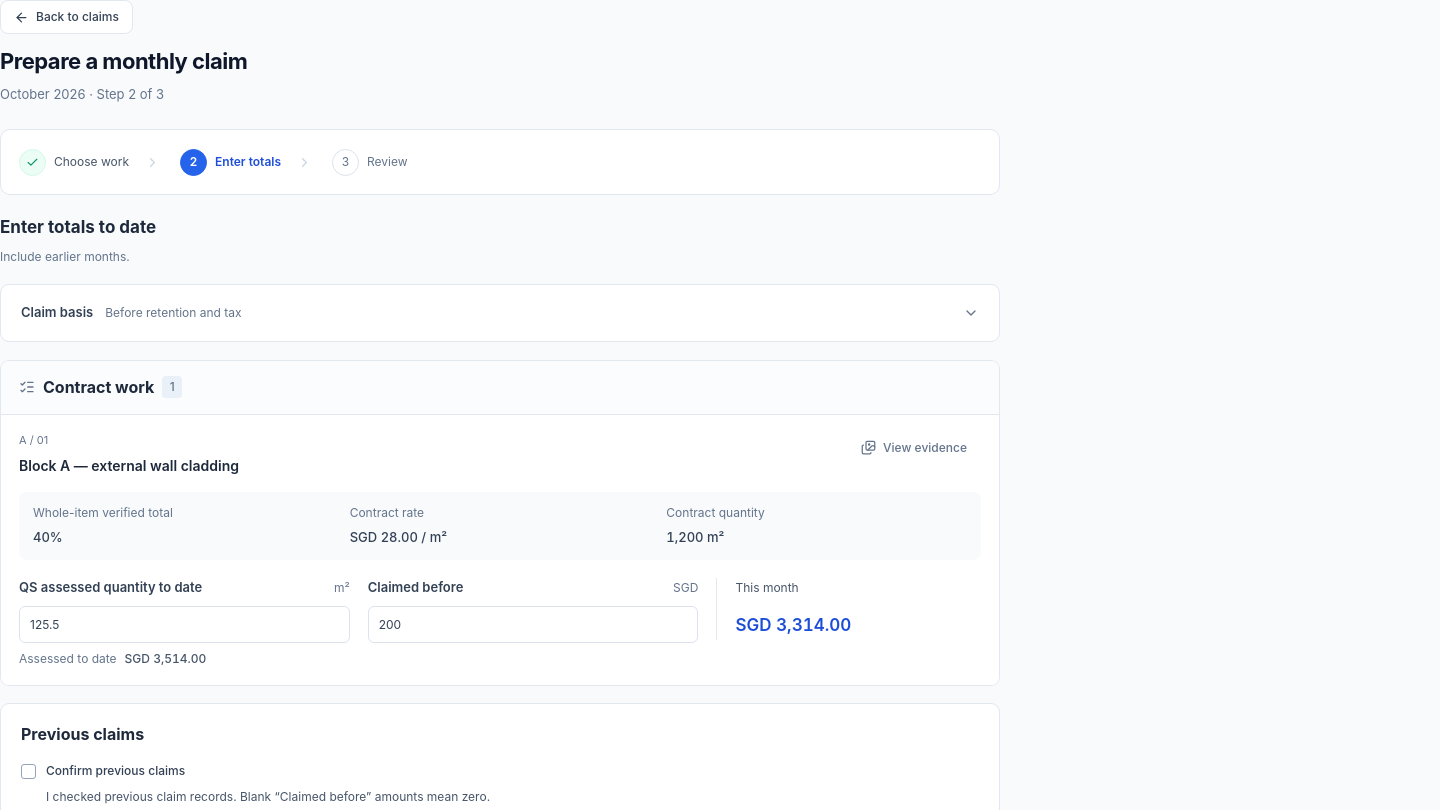
claim evidence retains each area separately › preserves unfinished claim quantities and prior values when switching areas and dismissing evidence
Expected: the text "QS assessed quantity to date" is shown, x1=19 y1=578 x2=202 y2=598
Expected: the text "40%" is shown, x1=33 y1=529 x2=63 y2=545
Click the button with aria-label "View evidence for A / 01". click: click(914, 448)
box: x1=847 y1=431 x2=981 y2=465
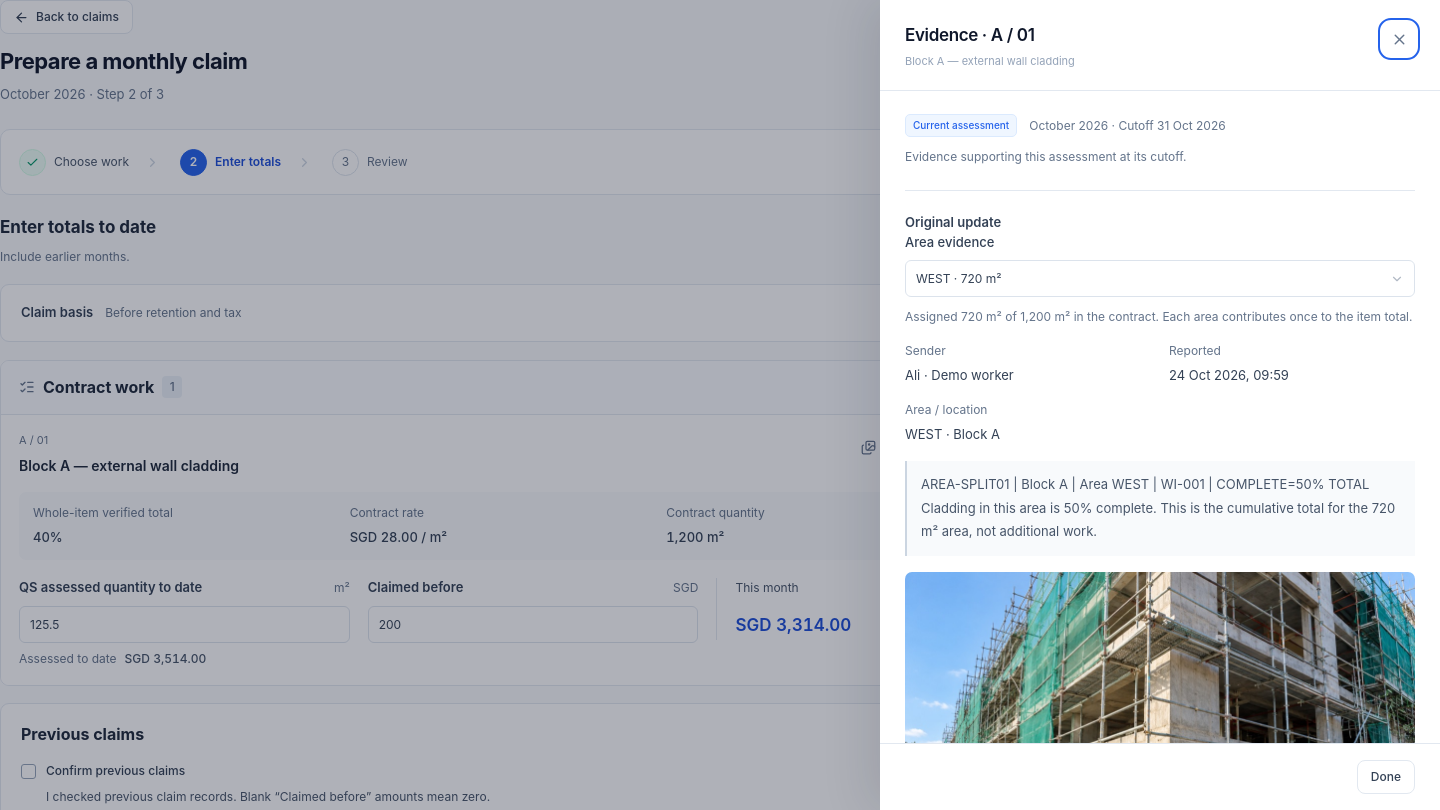
Click the dropdown named "Area evidence". click: click(959, 278)
box: x1=905 y1=260 x2=1415 y2=297
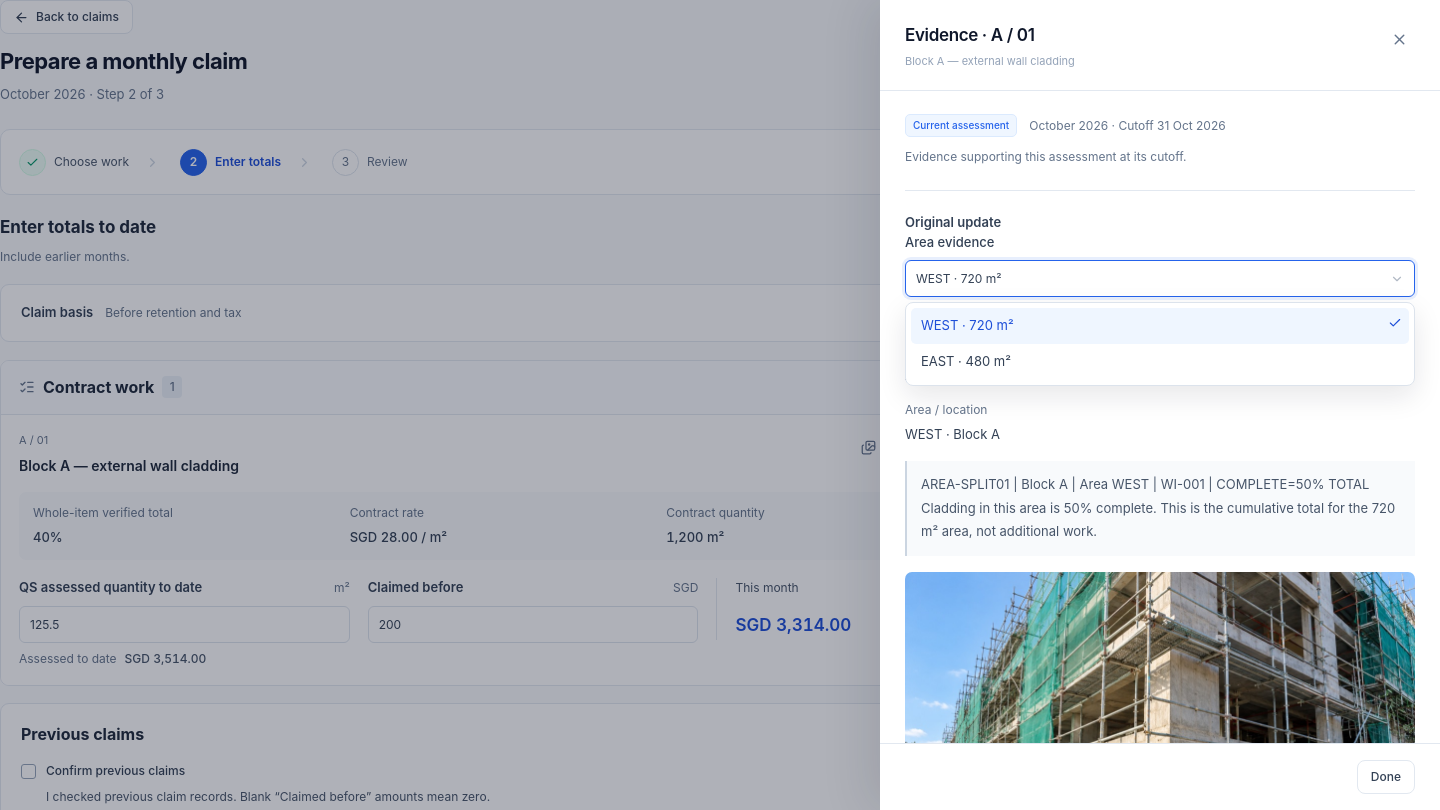
Click the option "EAST · 480 m²". click: click(966, 361)
box: x1=921 y1=353 x2=1011 y2=369
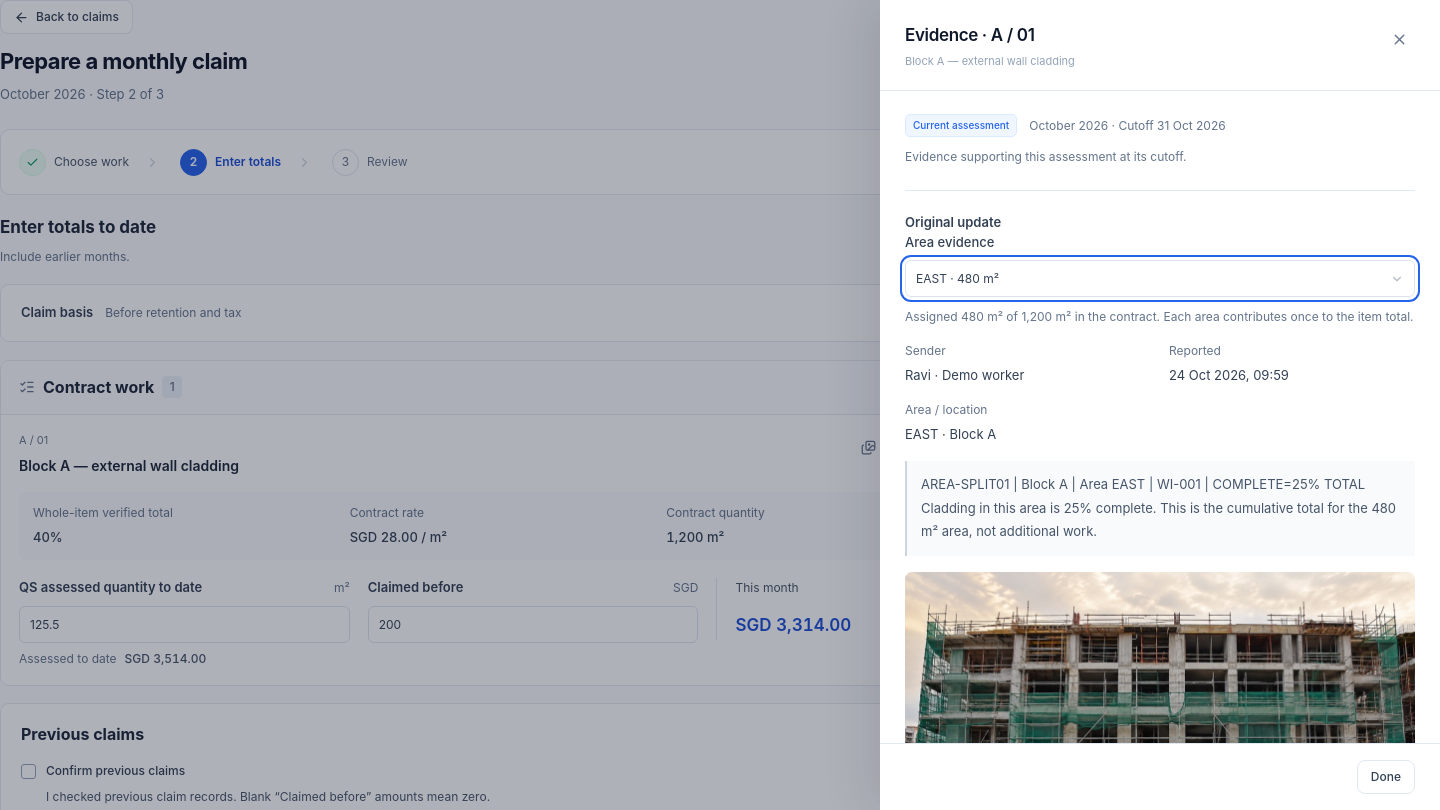
Press Escape
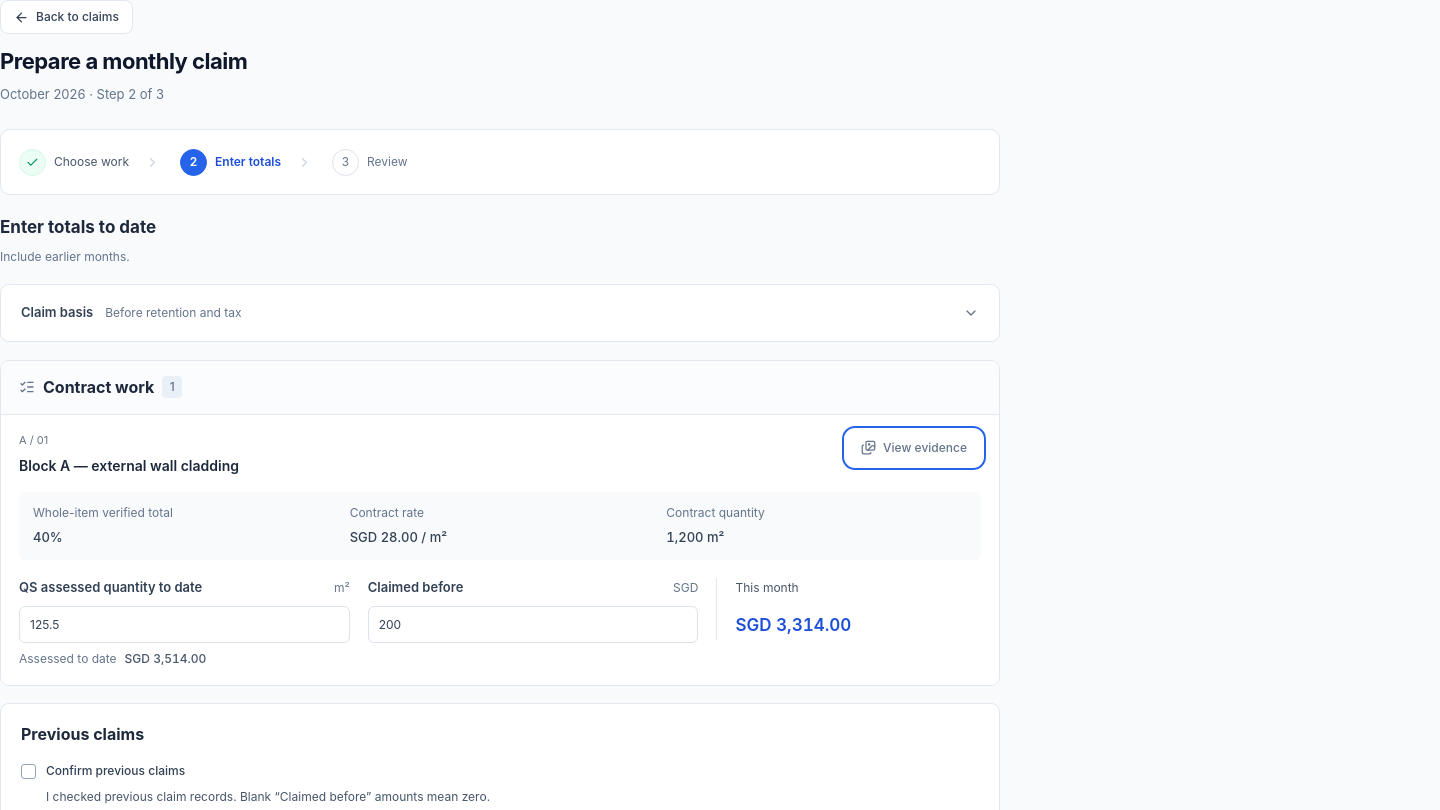
Expected: the number field named "WI-001 QS cumulative quantity" holds "125.5", x1=19 y1=606 x2=350 y2=642
Expected: the dialog is gone
